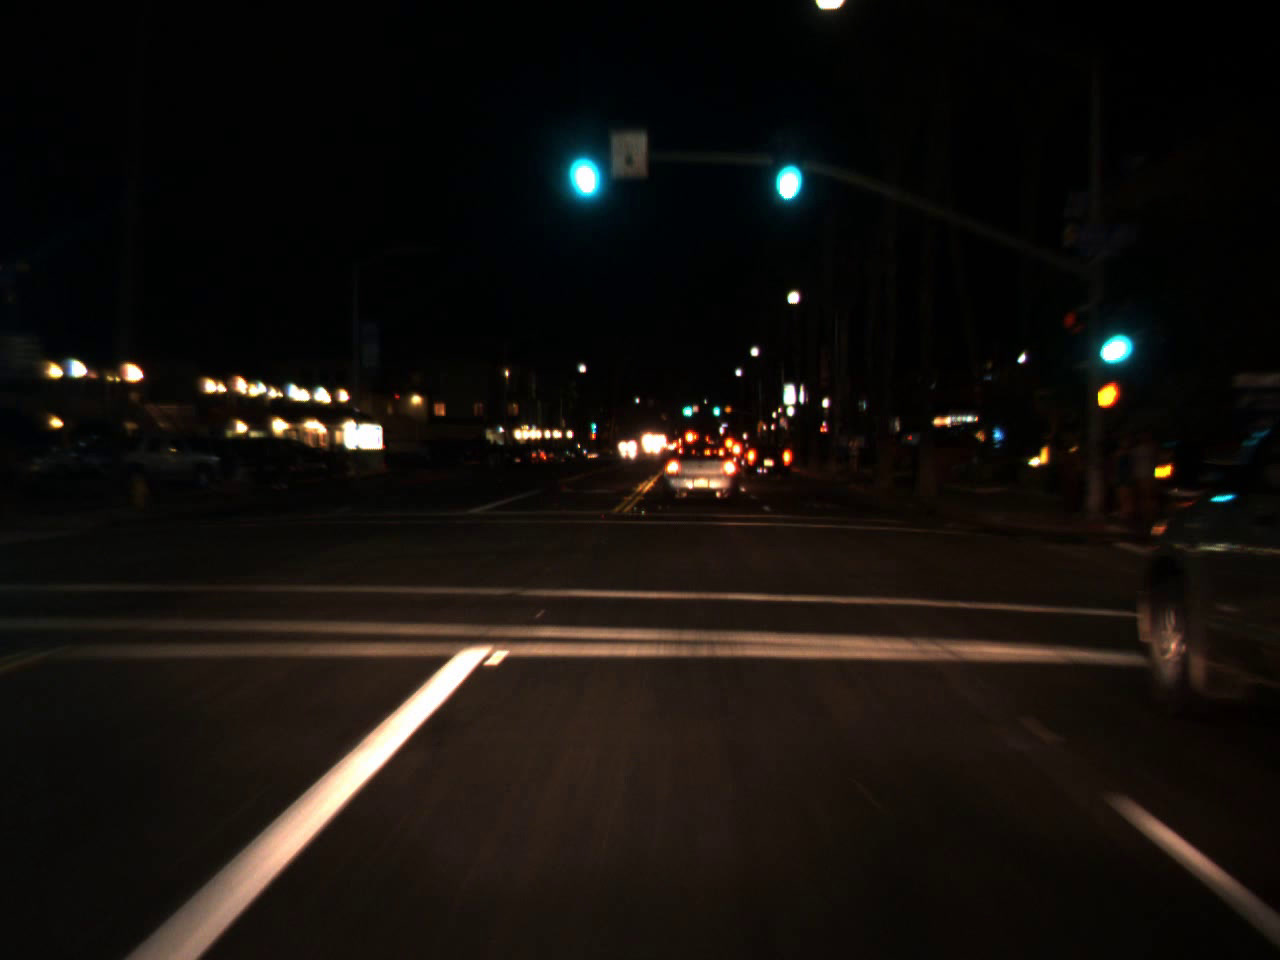go: (1084, 298, 1136, 376), (561, 118, 604, 205), (764, 128, 807, 212), (680, 396, 694, 417), (711, 396, 721, 420), (589, 412, 596, 436)
